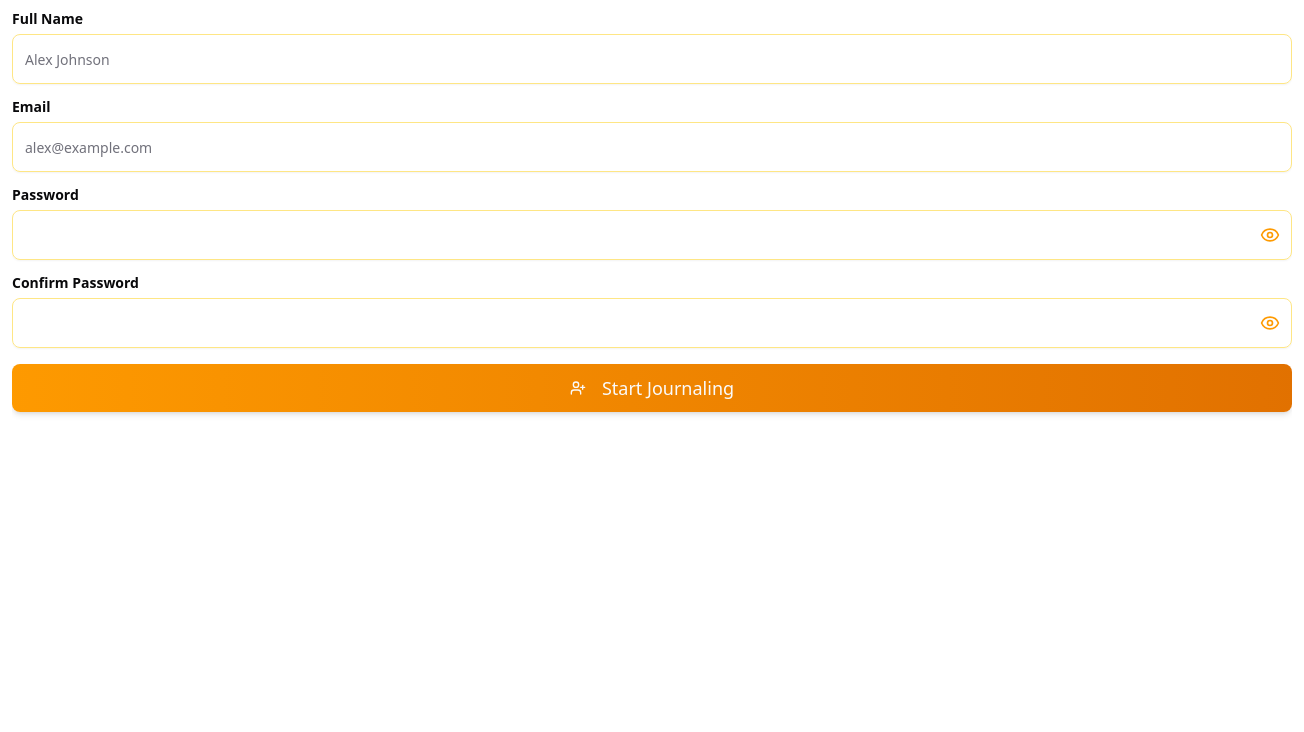
Test: RegistrationForm › Frontend Validation Error › validates password must contain at least one uppercase letter
Step 1. Type "invalidpass" into the password field labelled "Password" → (652, 235), box [12, 210, 1292, 260]
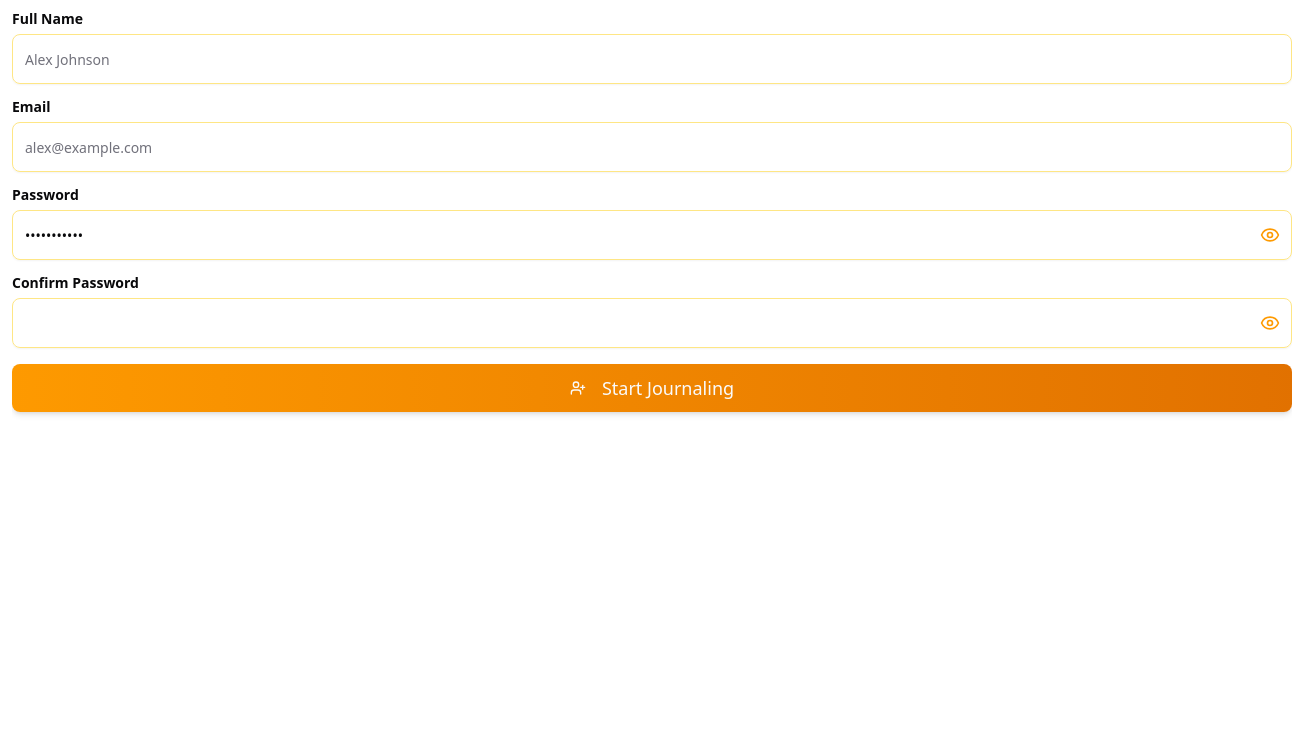
Step 2. Click the button "Start Journaling" → click(652, 388), box [12, 364, 1292, 412]
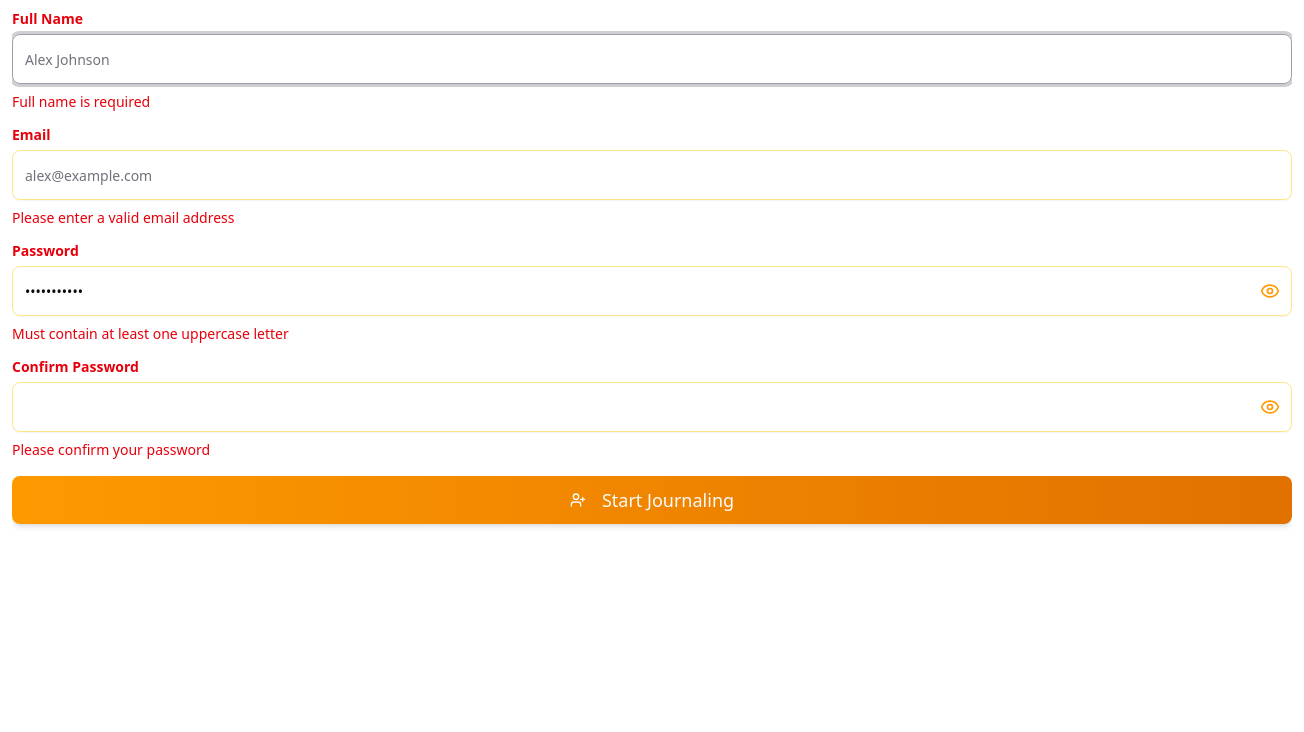
Now the text "Must contain at least one uppercase letter" is shown, box [12, 324, 289, 343]
